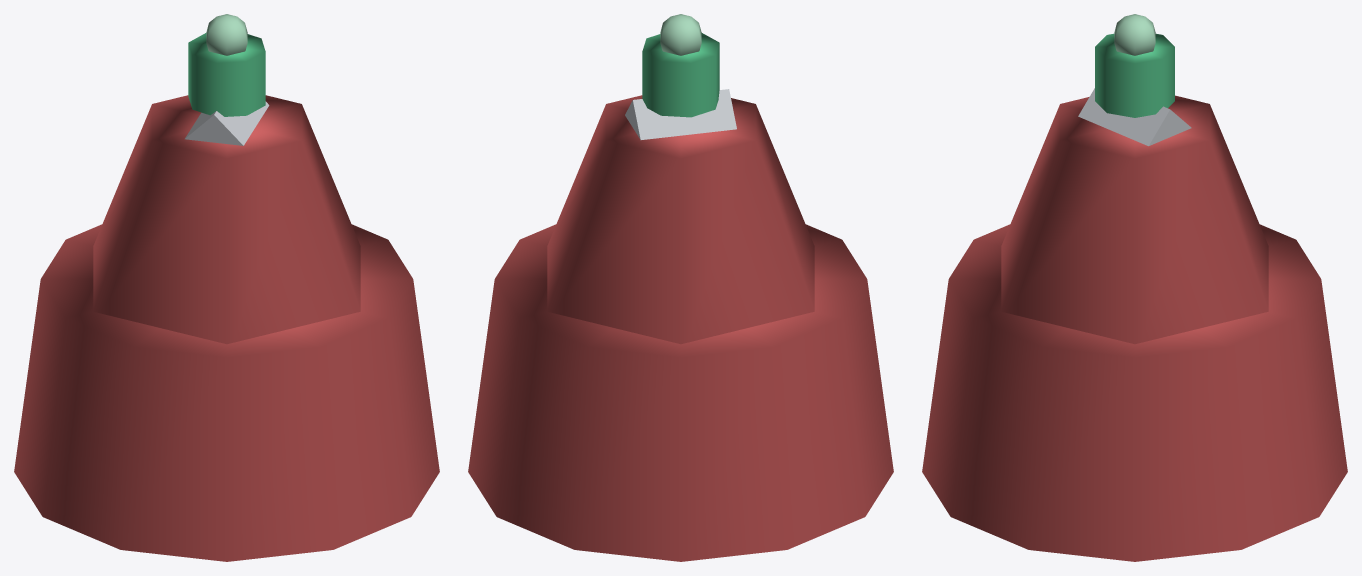
The model's file is channel-buoy.glb.
3 views of the same model, side by side, from view 1: azimuth 30°, elevation 25°; view 2: azimuth 150°, elevation 25°; view 3: azimuth 270°, elevation 25° (orthographic).
Visible parts, largest first — view 1: Root; view 2: Root; view 3: Root.
Boxes of the visible parts, <box> form: Root: <box>14,14,439,561</box>; Root: <box>468,14,893,561</box>; Root: <box>922,14,1347,561</box>.
Size of the model in its own units: 3.2 by 3.78 by 3.2.
